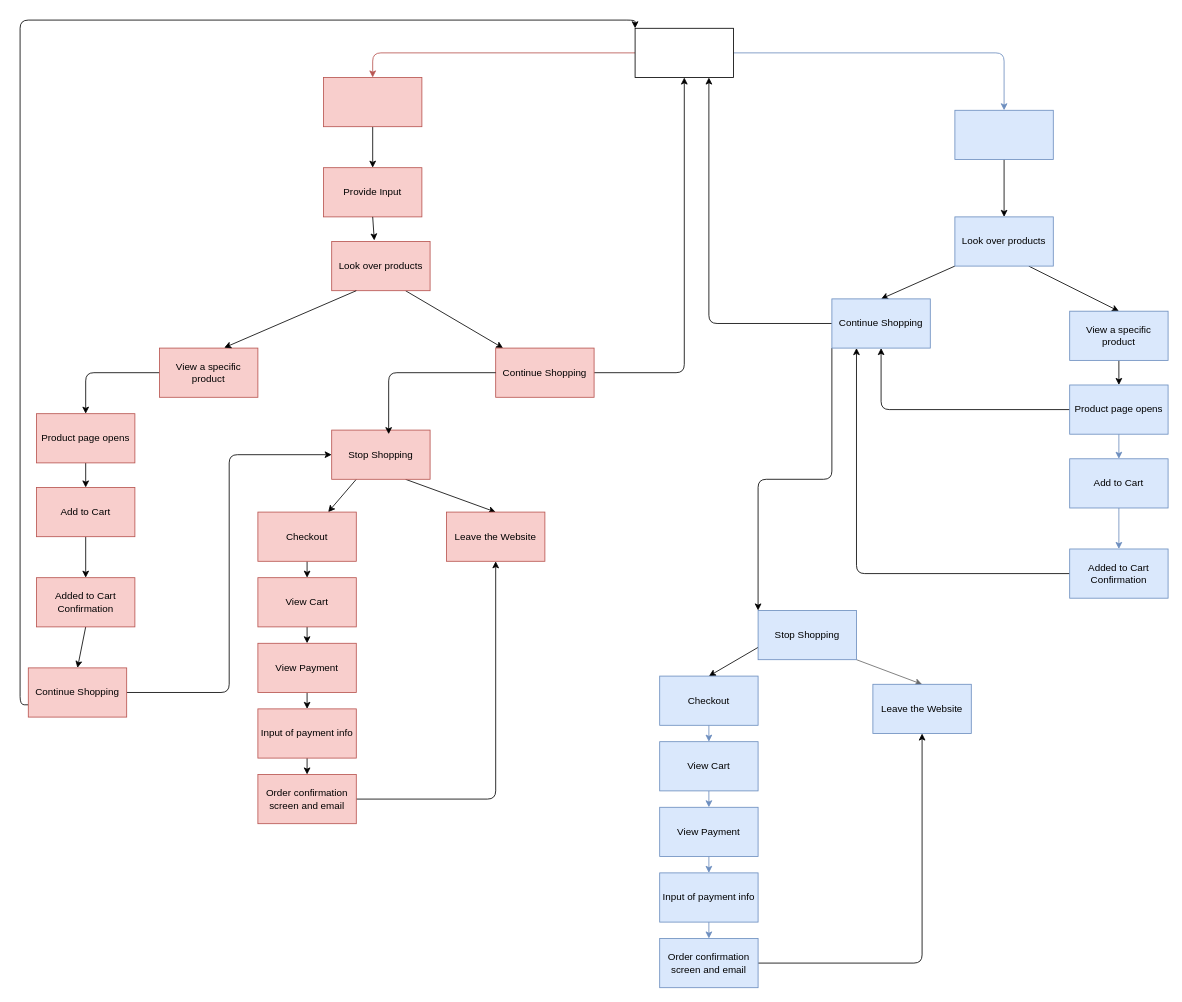
This 1182x1002 diagram has some shape labels left out. Each missing label, with the centre of its shape:
"Explore home page products" goes at point (1003, 134).
"Search for a Product" goes at point (372, 102).
"User Enters Website" goes at point (683, 52).
